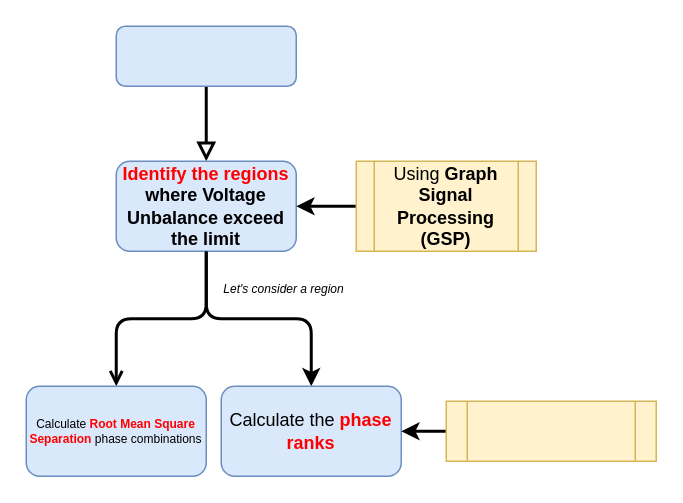
Some shapes in this 683 by 503 pixel diagram are drawn without their labels. The shapes that lost their labels are listed below. From the top down, each one's centre as x and y in pixels, then its label:
At point (205, 55): "Initial Load Flow Analysis".
At point (550, 430): "Function: find_phase_ranks()".
